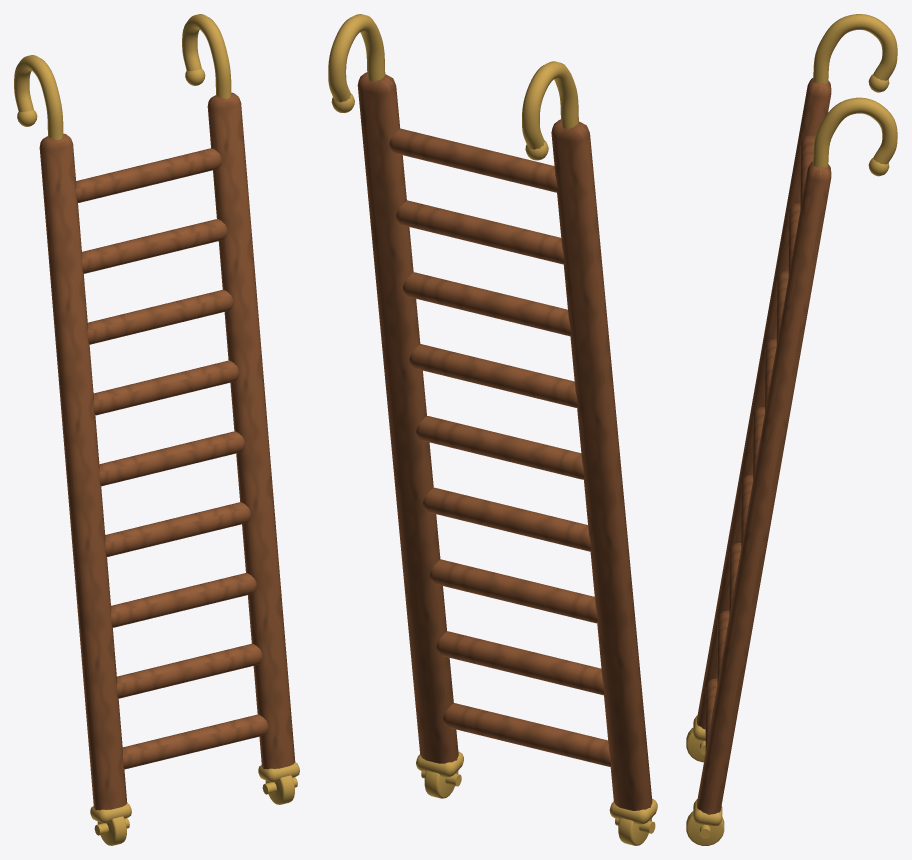
File: rolling_ladder.glb
3 renders of one model, left to right at view 1: azimuth 30°, elevation 25°; view 2: azimuth 150°, elevation 25°; view 3: azimuth 270°, elevation 25°, orthographic. The views are drawn at different scales.
Visible parts, largest first — view 1: rolling_ladder; view 2: rolling_ladder; view 3: rolling_ladder.
Part boxes in pixels (bbox=[...]): rolling_ladder: bbox=[14, 14, 299, 845]; rolling_ladder: bbox=[328, 14, 657, 845]; rolling_ladder: bbox=[686, 14, 897, 845].
Size of the model in its own units: 1.44 by 5 by 1.28.
2 materials, 1 textured.
